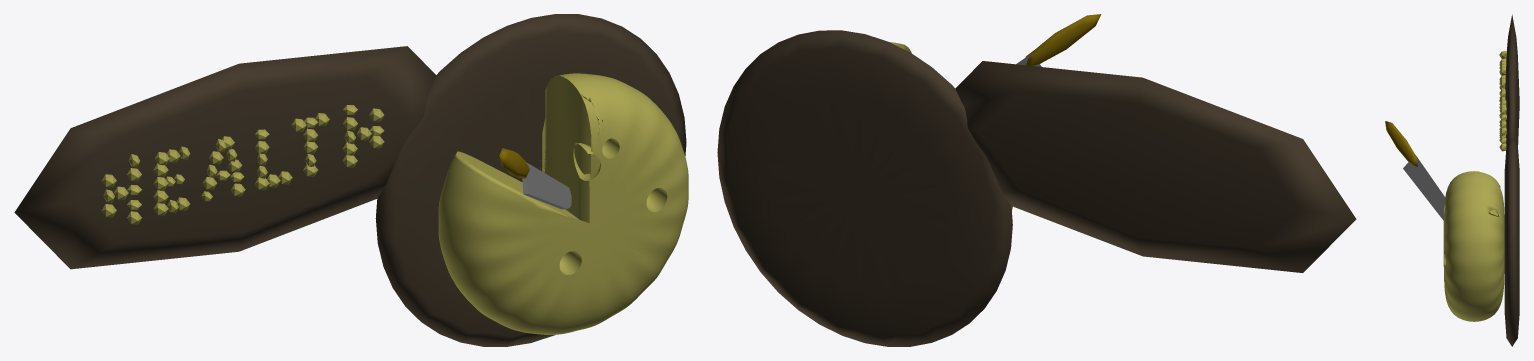
Rendered from 87.5prcHealth_Bar.fbx.
3 renders of one model, left to right at view 1: azimuth 30°, elevation 25°; view 2: azimuth 150°, elevation 25°; view 3: azimuth 270°, elevation 25°, orthographic. The views are drawn at different scales.
Parts seen in each view (by area): view 1: pCube3, polySurface1, cheeseboard, pCube1, polySurface2, pCube2; view 2: cheeseboard, pCube3, pCube2; view 3: polySurface1, cheeseboard, pCube3, pCube1, pCube2, polySurface2.
Boxes of the visible parts, x1,y1,x2,y2 form: pCube3: [14, 46, 436, 269]; polySurface1: [438, 73, 688, 334]; cheeseboard: [375, 14, 686, 346]; pCube1: [522, 162, 571, 209]; polySurface2: [559, 73, 672, 216]; pCube2: [498, 148, 529, 178]; cheeseboard: [717, 30, 1012, 346]; pCube3: [955, 61, 1356, 272]; pCube2: [1025, 14, 1101, 66]; polySurface1: [1443, 172, 1504, 321]; cheeseboard: [1504, 137, 1519, 346]; pCube3: [1505, 14, 1519, 145]; pCube1: [1403, 155, 1445, 220]; pCube2: [1385, 121, 1417, 166]; polySurface2: [1444, 171, 1504, 283].
Size of the model in its own units: 29.91 by 14.91 by 8.86.
